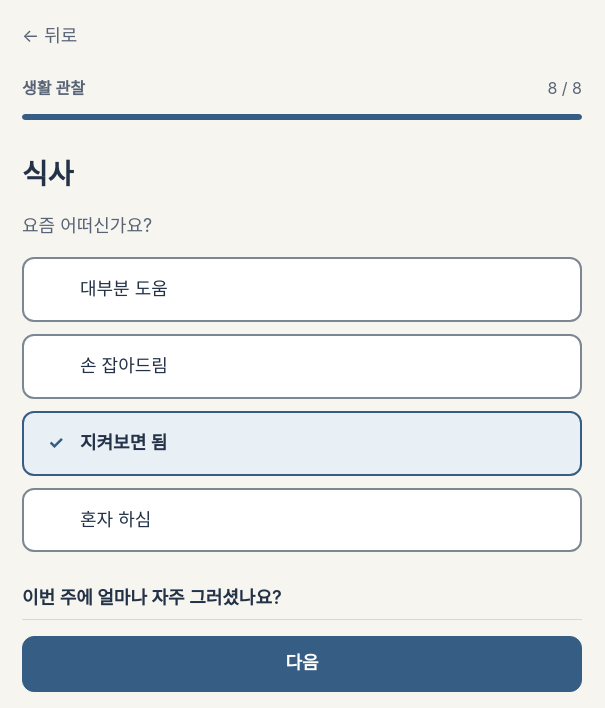
온보딩 기준선 › 재시도하면 지난 실패 문구가 응답을 기다리지 않고 바로 사라진다
The image size is (605, 708).
Step 1. Click the button "다음" → (302, 664), box [22,636,582,692]
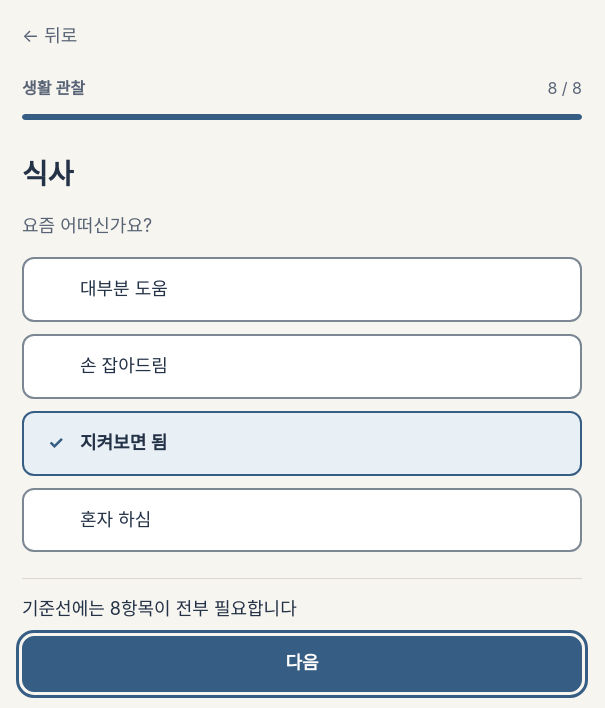
Result: the text "기준선에는 8항목이 전부 필요합니다" is shown at [22,598,297,619]
Step 2. Click the button "다음" → (302, 664), box [22,636,582,692]
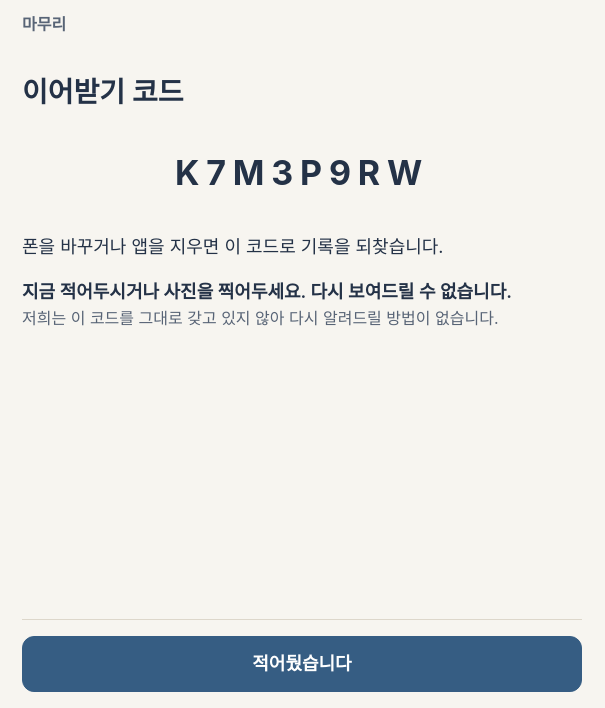
Result: the text "기준선에는 8항목이 전부 필요합니다" is gone
Result: the text "K7M3P9RW" is shown at [175,152,429,193]
